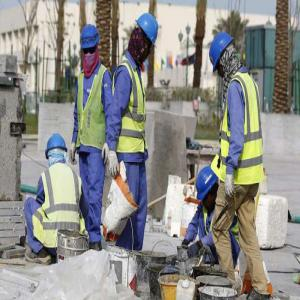blue: (133, 15, 159, 57), (211, 33, 235, 76), (198, 166, 216, 209), (82, 25, 100, 64), (47, 135, 69, 165)
